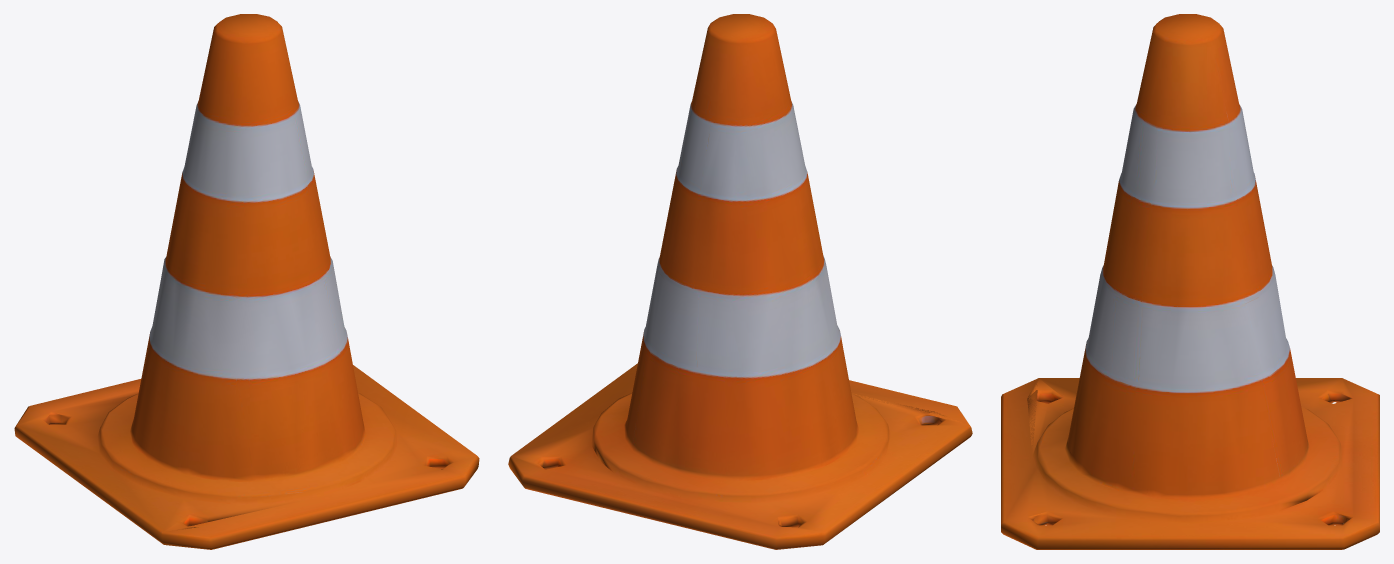
File: obstacleTrafficCone.glb
3 views of the same model, side by side, from view 1: azimuth 30°, elevation 25°; view 2: azimuth 150°, elevation 25°; view 3: azimuth 270°, elevation 25° (orthographic). The views are drawn at different scales.
Visible parts, largest first — view 1: tripo_node_e21fc9fa; view 2: tripo_node_e21fc9fa; view 3: tripo_node_e21fc9fa.
Boxes of the visible parts, bbox=[...] form: tripo_node_e21fc9fa: bbox=[14, 14, 479, 549]; tripo_node_e21fc9fa: bbox=[508, 14, 972, 549]; tripo_node_e21fc9fa: bbox=[1001, 14, 1379, 549].
Bounding box in the file's own units: 0.6669 × 0.9464 × 0.6632.
Materials: 1 (1 with a texture image).
